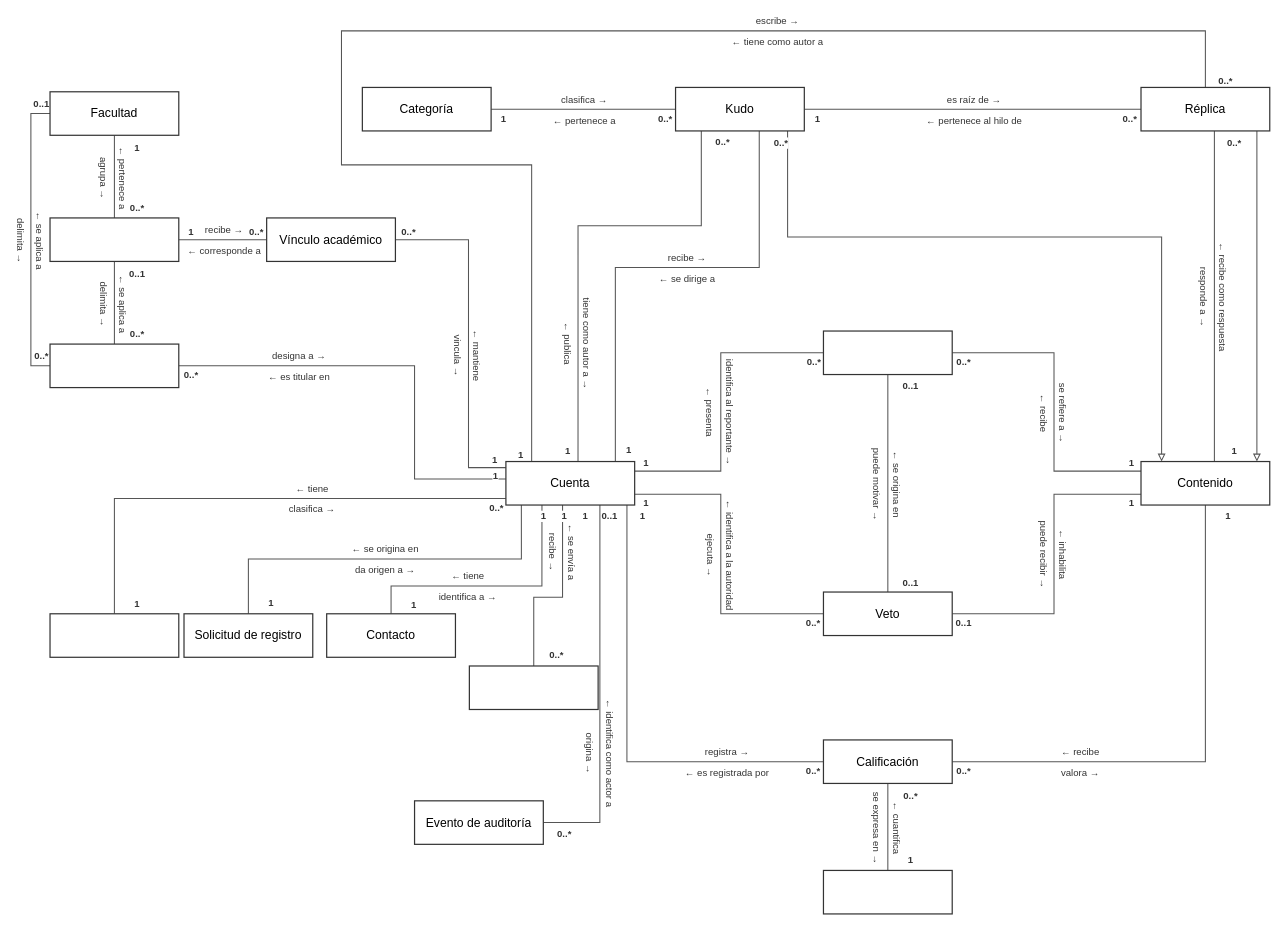
Some shapes in this 1285 by 929 pixel diagram are drawn without their labels. The centre of each missing label's shape, as x and y in pixels:
"Asignación de cargo" goes at point (114, 365).
"Estrellas" goes at point (887, 891).
"Notificación de verificación" goes at point (533, 687).
"Programa académico" goes at point (114, 239).
"Reporte" goes at point (887, 352).
"Rol institucional" goes at point (114, 635).
